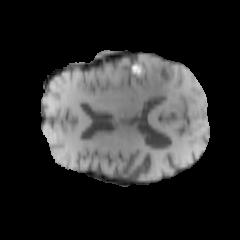glioma: (105, 54, 183, 101)
